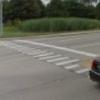crosswalks: (1, 41, 89, 79)
